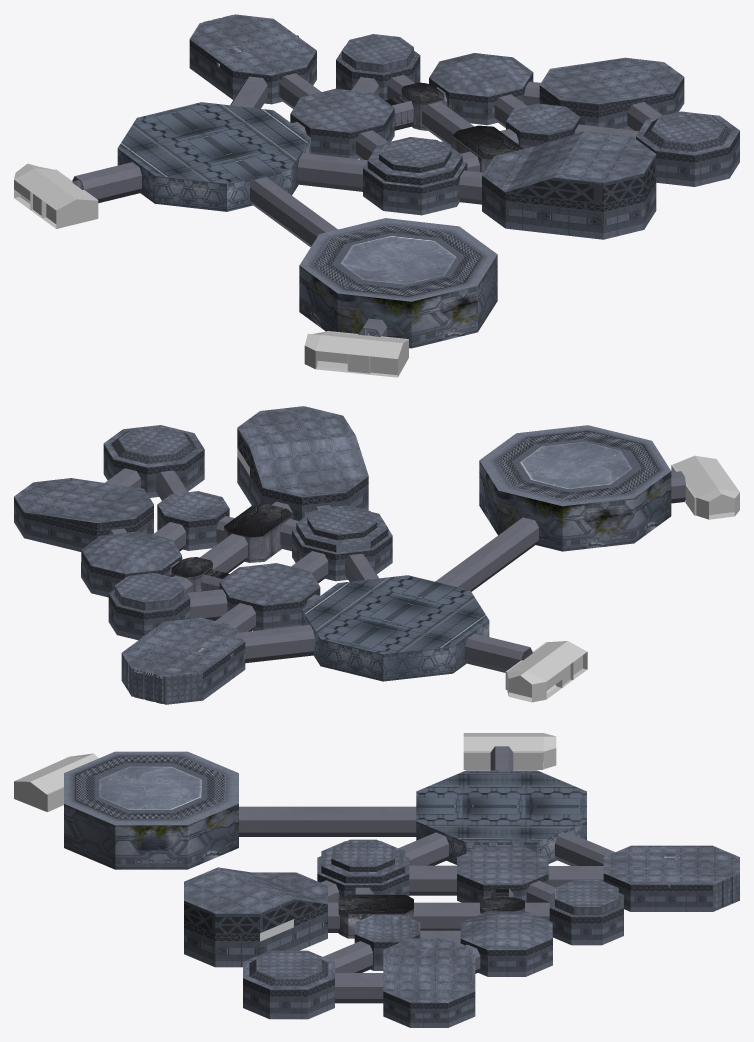
The model's file is RoomsAndHallways.fbx.
3 renders of one model, top to bottom at view 1: azimuth 30°, elevation 25°; view 2: azimuth 150°, elevation 25°; view 3: azimuth 270°, elevation 25°, orthographic. The views are drawn at different scales.
Visible parts, largest first — view 1: Circle.031, Circle.010, Circle.019, Circle.018, Circle.014, Circle.015, Circle.011, Circle.017, Circle.013, Cube.182, Circle.016, Cube.040 (+13 smaller); view 2: Circle.031, Circle.019, Circle.010, Circle.018, Circle.014, Circle.015, Circle.011, Circle.017, Circle.013, Circle.016, Cube.040, Cube.170 (+13 smaller); view 3: Circle.031, Circle.010, Circle.019, Circle.018, Circle.014, Circle.011, Cube.170, Circle.013, Circle.016, Circle.015, Circle.017, Cube.040 (+13 smaller).
Part boxes in pixels (x1,y1,x2,y2): Circle.031: (299, 218, 497, 348); Circle.010: (482, 131, 656, 239); Circle.019: (117, 102, 310, 211); Circle.018: (189, 14, 316, 104); Circle.014: (539, 57, 684, 130); Circle.015: (363, 137, 467, 215); Circle.011: (636, 111, 739, 186); Circle.017: (290, 88, 394, 158); Circle.013: (429, 53, 533, 125); Cube.182: (304, 331, 408, 377); Circle.016: (336, 34, 420, 100); Cube.040: (14, 163, 98, 228); Circle.031: (479, 425, 671, 551); Circle.019: (301, 575, 489, 681); Circle.010: (237, 406, 368, 520); Circle.018: (121, 617, 245, 704); Circle.014: (14, 478, 153, 551); Circle.015: (292, 505, 392, 581); Circle.011: (103, 425, 204, 497); Circle.017: (219, 563, 320, 630); Circle.013: (81, 531, 182, 597); Circle.016: (108, 573, 190, 640); Cube.040: (505, 641, 587, 702); Cube.170: (435, 517, 538, 591); Circle.031: (64, 751, 238, 869); Circle.010: (184, 867, 327, 967); Circle.019: (416, 770, 586, 864); Circle.018: (603, 845, 739, 911); Circle.014: (383, 938, 475, 1027); Circle.011: (243, 950, 334, 1019); Cube.170: (239, 806, 416, 836); Circle.013: (460, 911, 552, 976); Circle.016: (549, 880, 623, 945); Circle.015: (317, 839, 409, 898); Circle.017: (457, 846, 548, 902); Cube.040: (463, 733, 556, 769).
Size of the model in its own units: 462 by 42.34 by 511.
